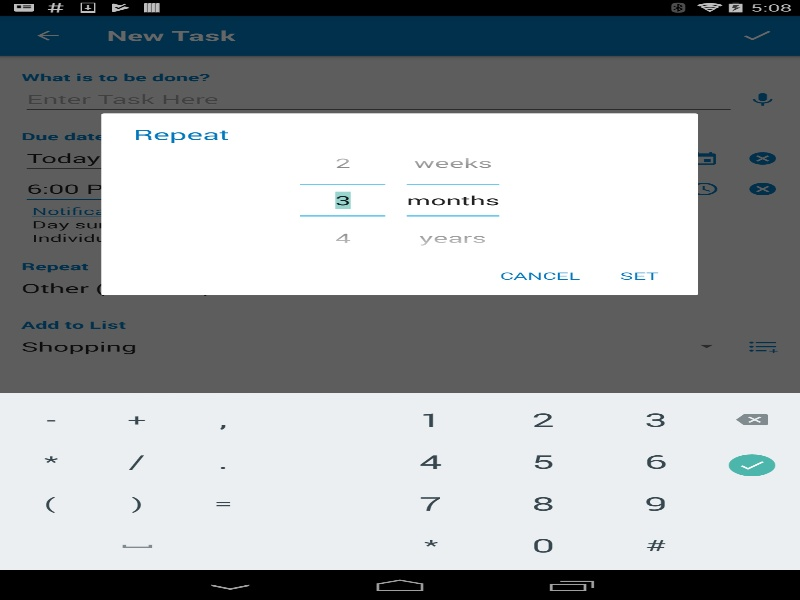Button: (406, 144, 499, 185), (406, 215, 499, 256), (484, 259, 596, 292), (300, 144, 385, 185), (300, 215, 385, 256), (596, 259, 682, 292)
Input: (406, 185, 499, 215), (300, 185, 385, 215)
